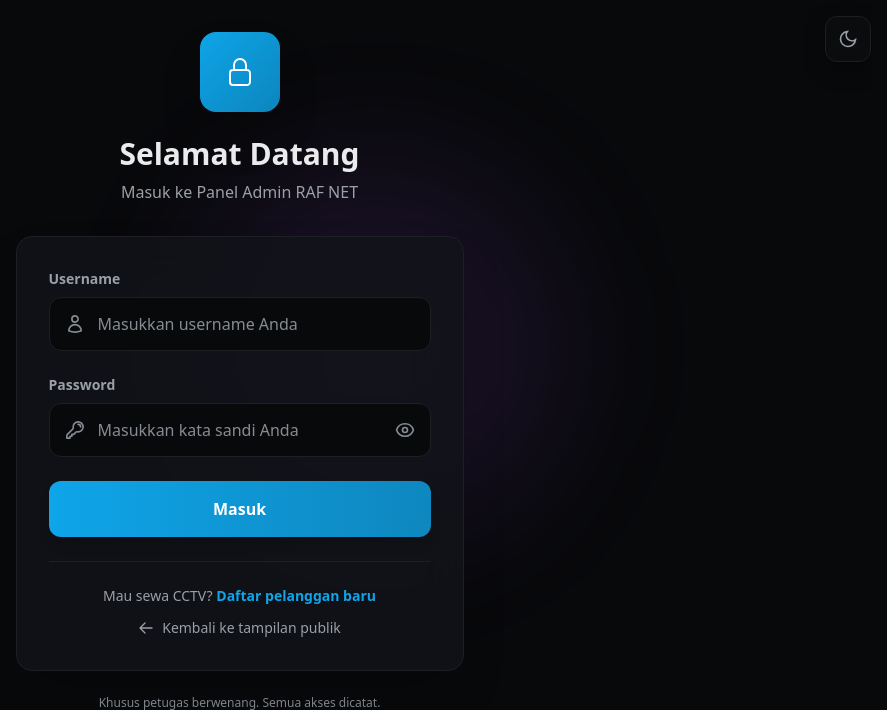
Test: LoginPage — TOTP second factor › a wrong code stays on the challenge step with the server message
Type "admin" into the field labelled "Username" at coordinates (240, 324), box x1=48 y1=297 x2=430 y2=351
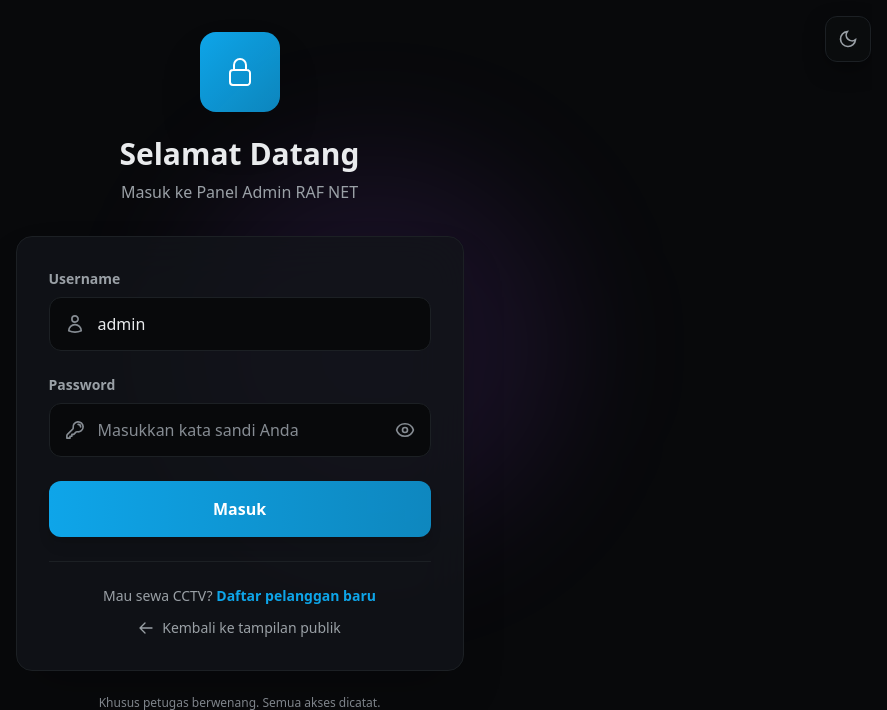
Type "secret" into the password field labelled "Password" at coordinates (240, 430), box x1=48 y1=403 x2=430 y2=457
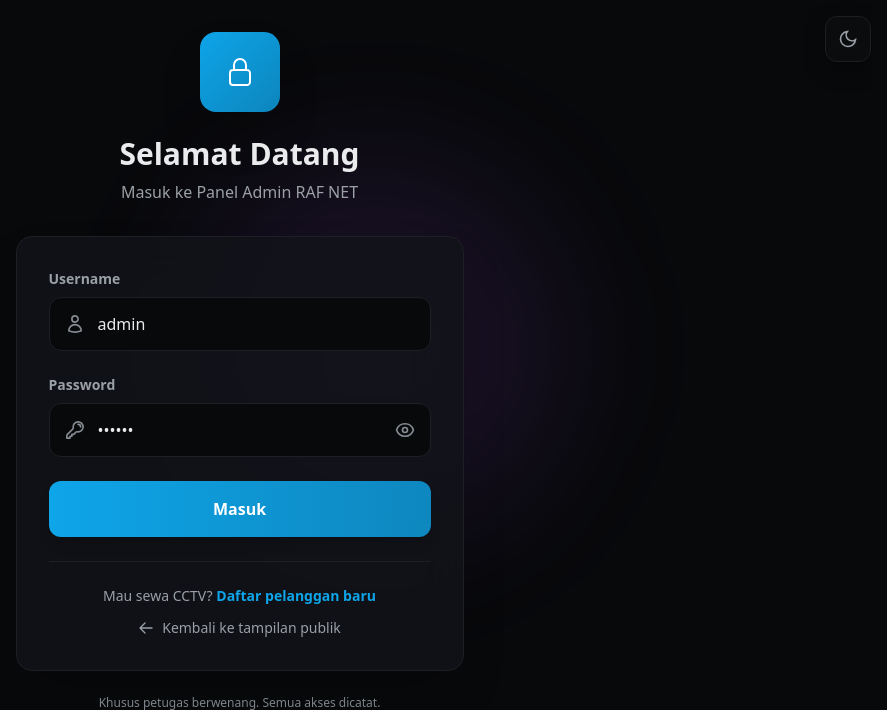
Click the button "Masuk" at coordinates (240, 509), box x1=48 y1=481 x2=430 y2=537
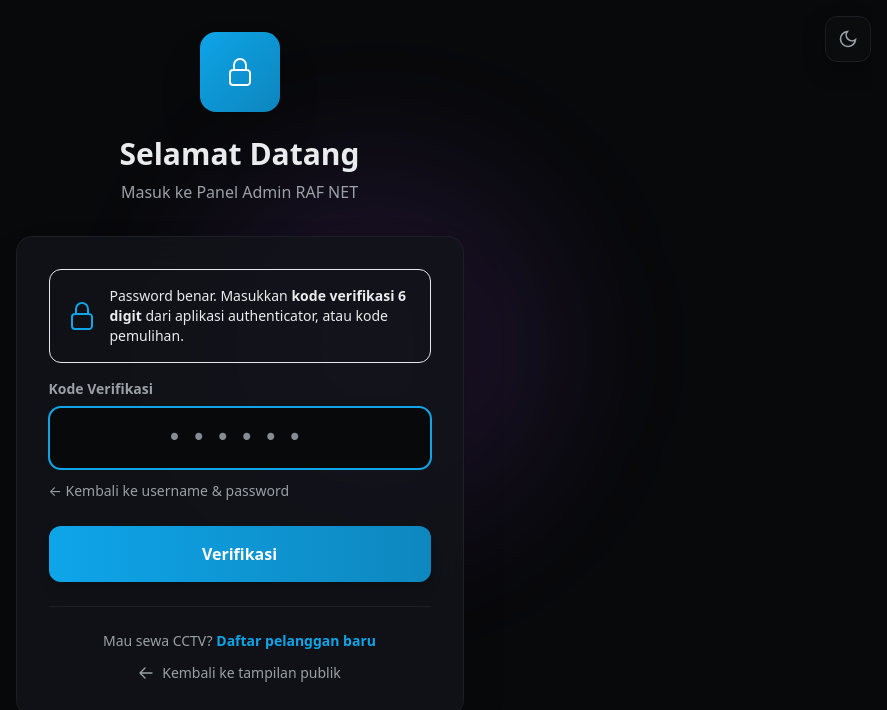
Check: the field labelled "Kode Verifikasi" is shown
Type "000000" into the field labelled "Kode Verifikasi" at coordinates (240, 438), box x1=48 y1=407 x2=430 y2=469
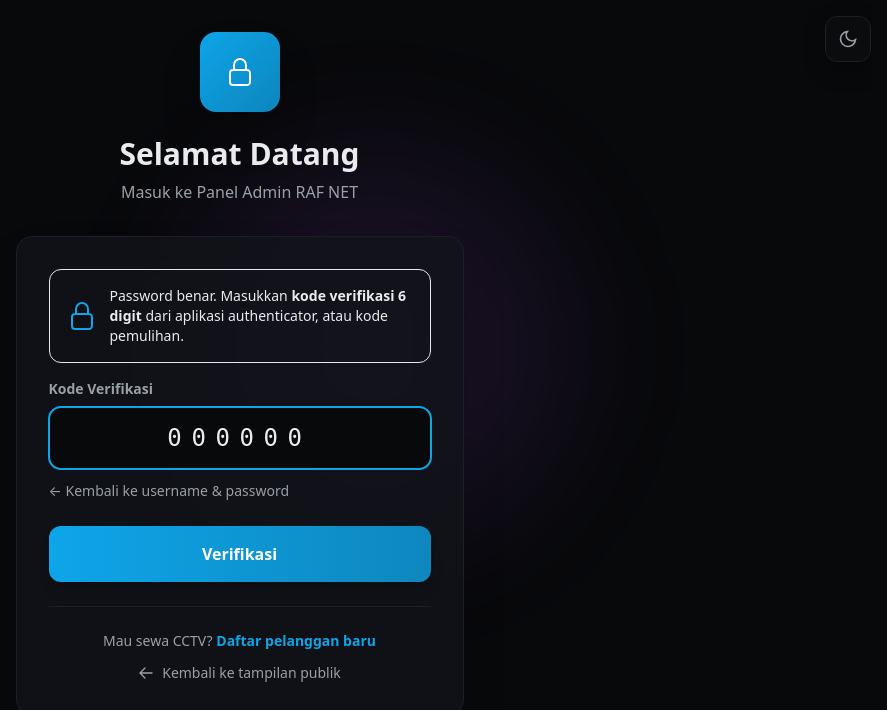
Click the button "Verifikasi" at coordinates (240, 554), box x1=48 y1=526 x2=430 y2=582
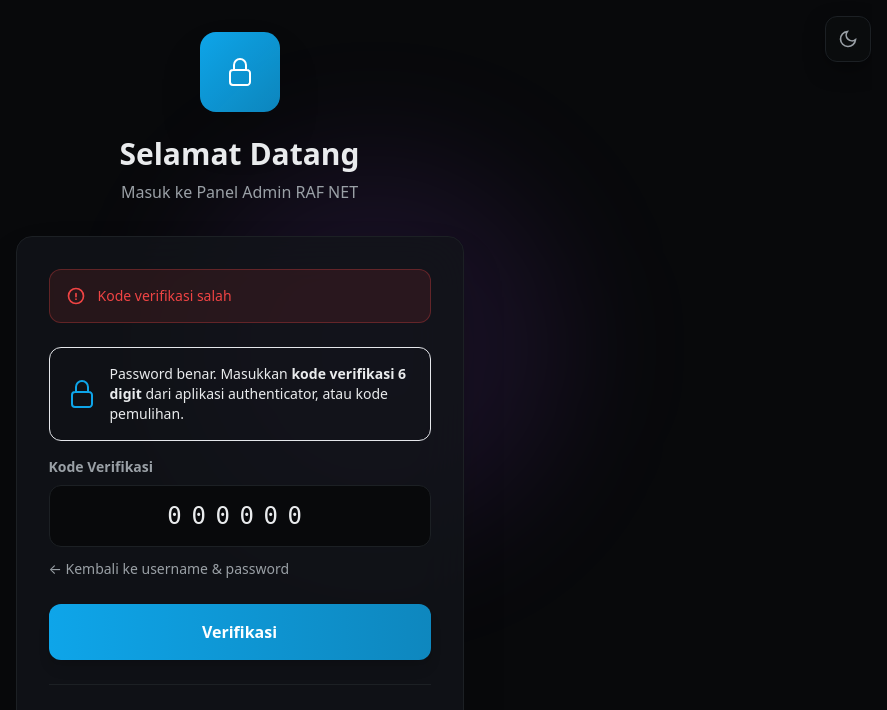
Check: the text "Kode verifikasi salah" is shown, box x1=98 y1=286 x2=232 y2=305
